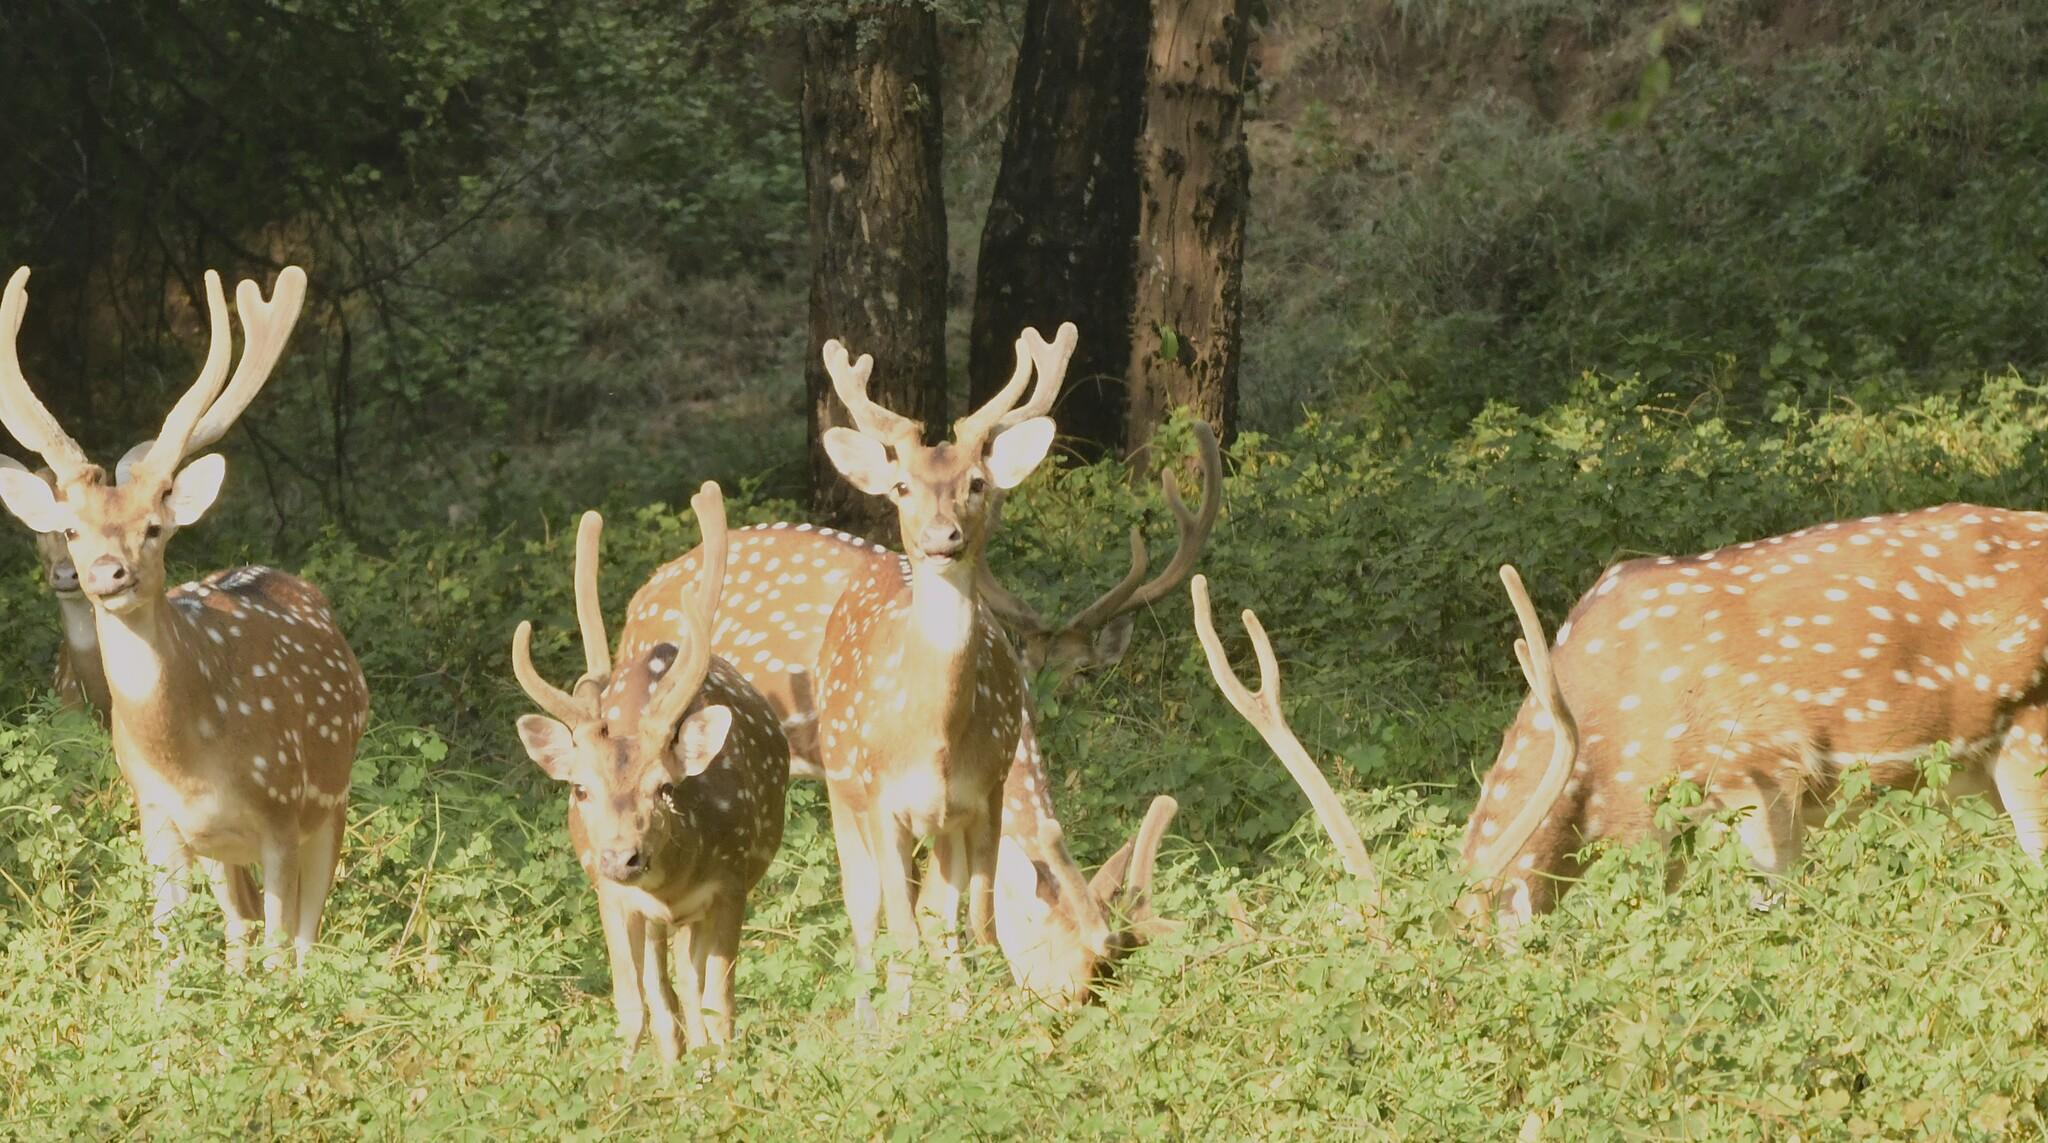Deer: (1191, 503, 2047, 932), (0, 267, 369, 969), (819, 323, 1077, 971), (513, 484, 789, 1064)
